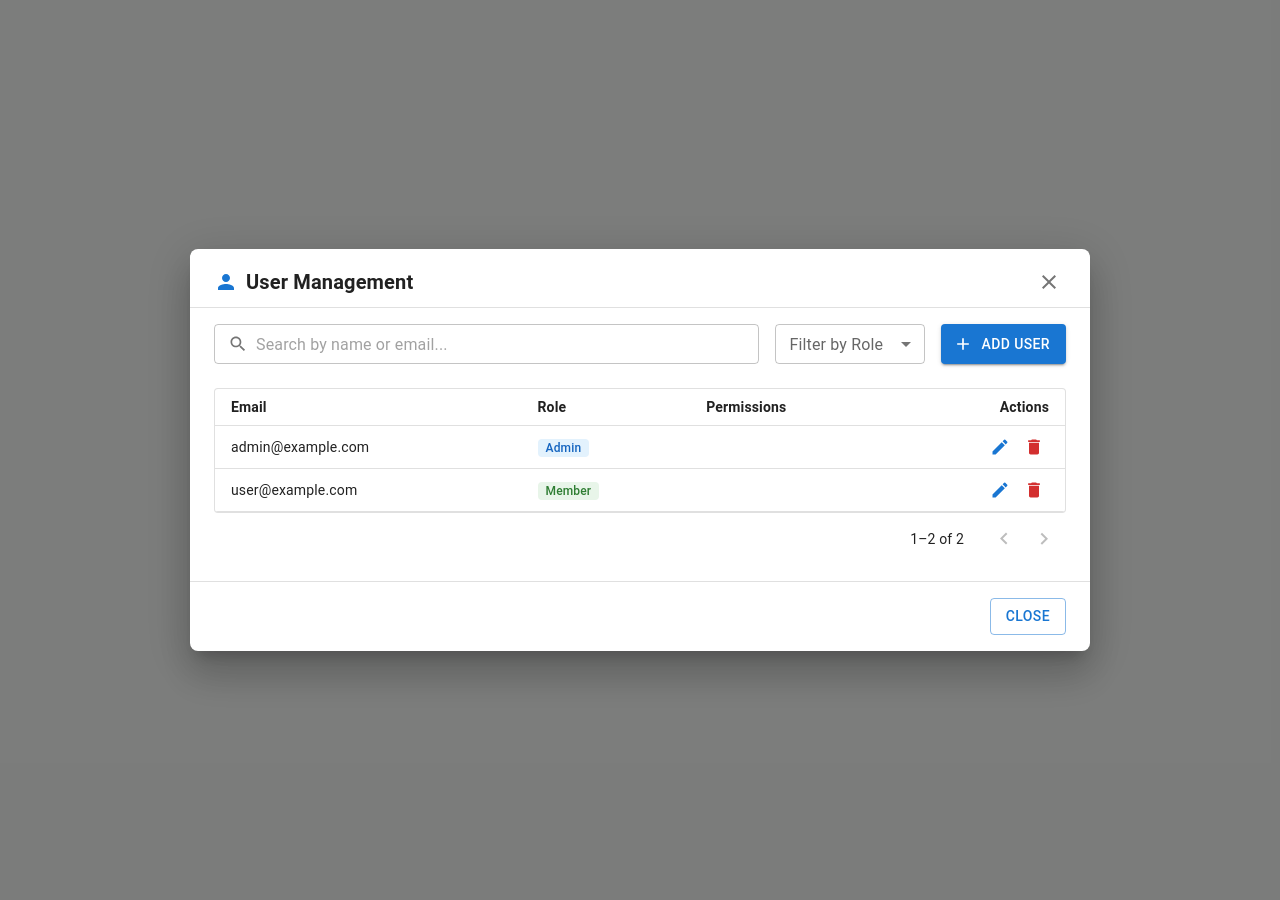
UserManagementModal › filters users by search query
Expected: the text "admin@example.com" is shown, [215,426,522,469]
Type "user" into the field with placeholder "Search by name or email..." at (508, 344), box [256,324,760,364]
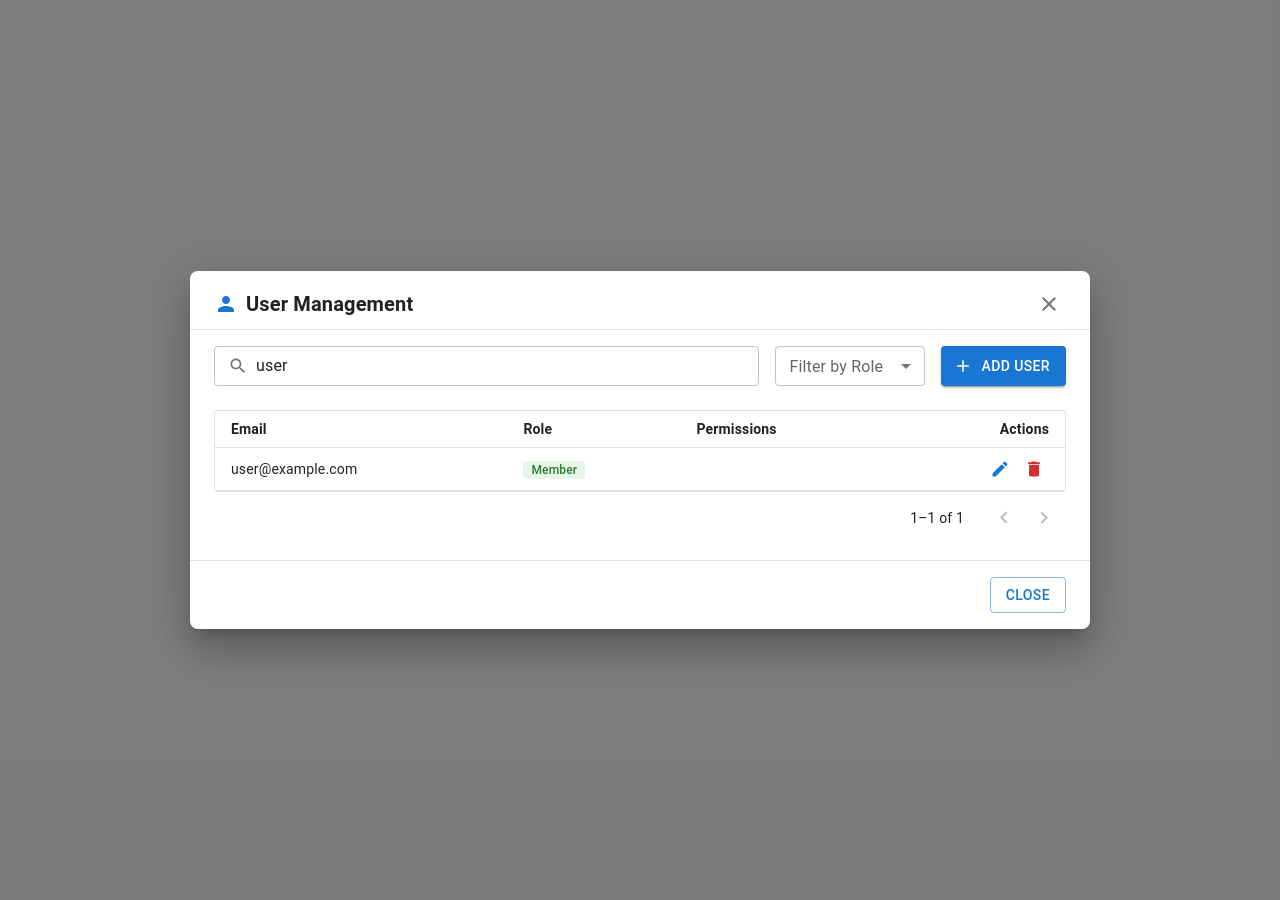
Expected: the text "user@example.com" is shown, [215,447,507,490]
Expected: the text "admin@example.com" is gone
